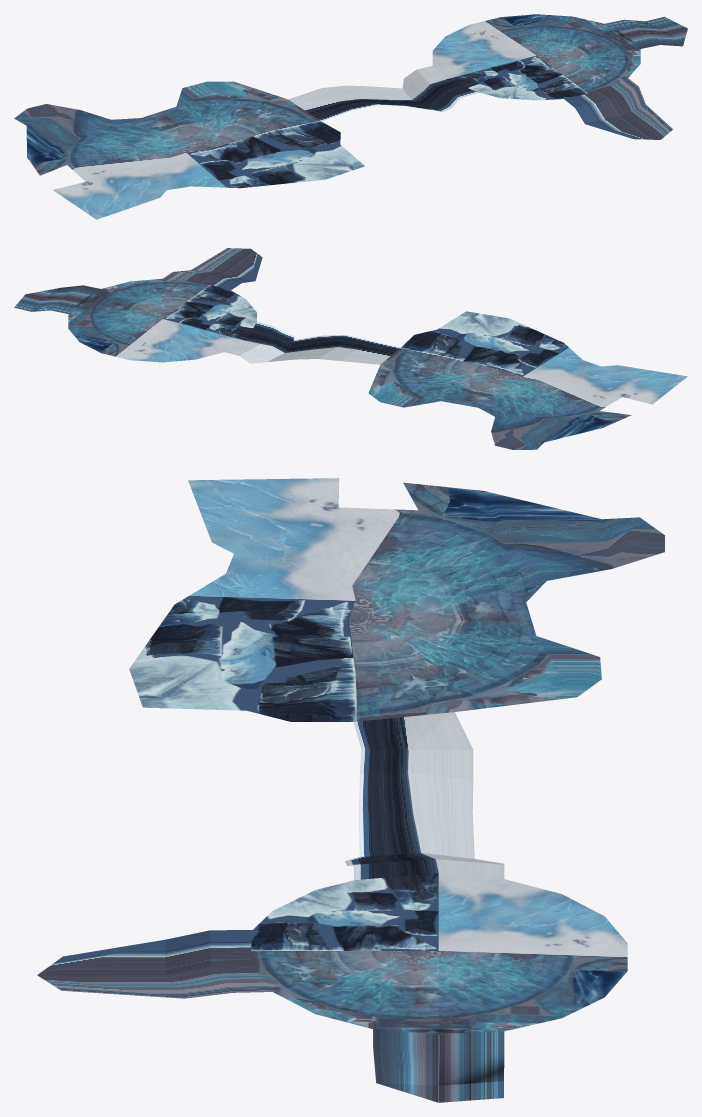
File: 5013_Item_pengzhuang.FBX
The picture shows the model from 3 angles, top to bottom: view 1: azimuth 30°, elevation 25°; view 2: azimuth 150°, elevation 25°; view 3: azimuth 270°, elevation 25°; orthographic projection. The views are drawn at different scales.
Visible parts, largest first — view 1: 5013_Item_pengzhuang; view 2: 5013_Item_pengzhuang; view 3: 5013_Item_pengzhuang.
Boxes of the visible parts, x1=… form: 5013_Item_pengzhuang: x1=14, y1=14, x2=687, y2=219; 5013_Item_pengzhuang: x1=14, y1=248, x2=687, y2=449; 5013_Item_pengzhuang: x1=37, y1=478, x2=664, y2=1102.
Size of the model in its own units: 8862 by 4001 by 286.
Materials: 1 (1 with a texture image).
